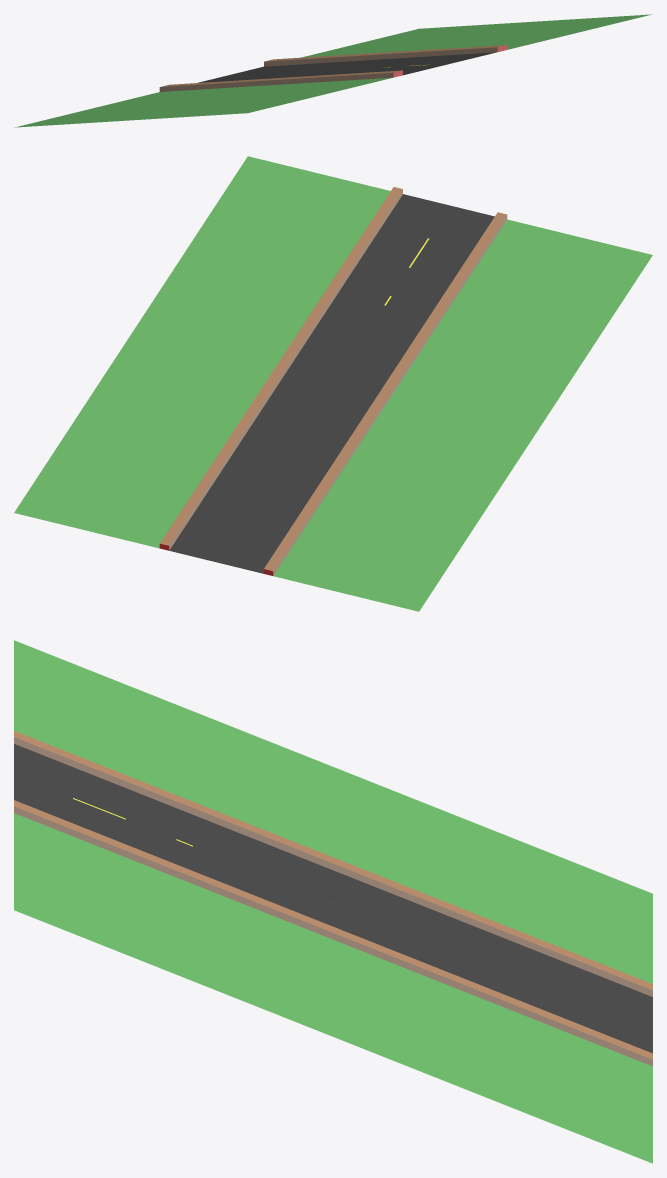
File: rdup.obj
3 renders of one model, top to bottom at view 1: azimuth 30°, elevation 25°; view 2: azimuth 150°, elevation 25°; view 3: azimuth 270°, elevation 25°, orthographic. The views are drawn at different scales.
Bounding box in the file's own units: 1028 × 462 × 1028.
